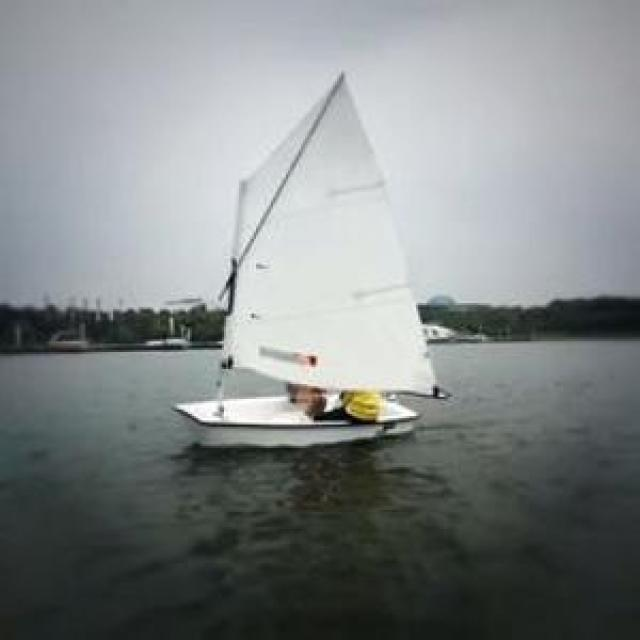sailboat: (183, 70, 437, 443)
